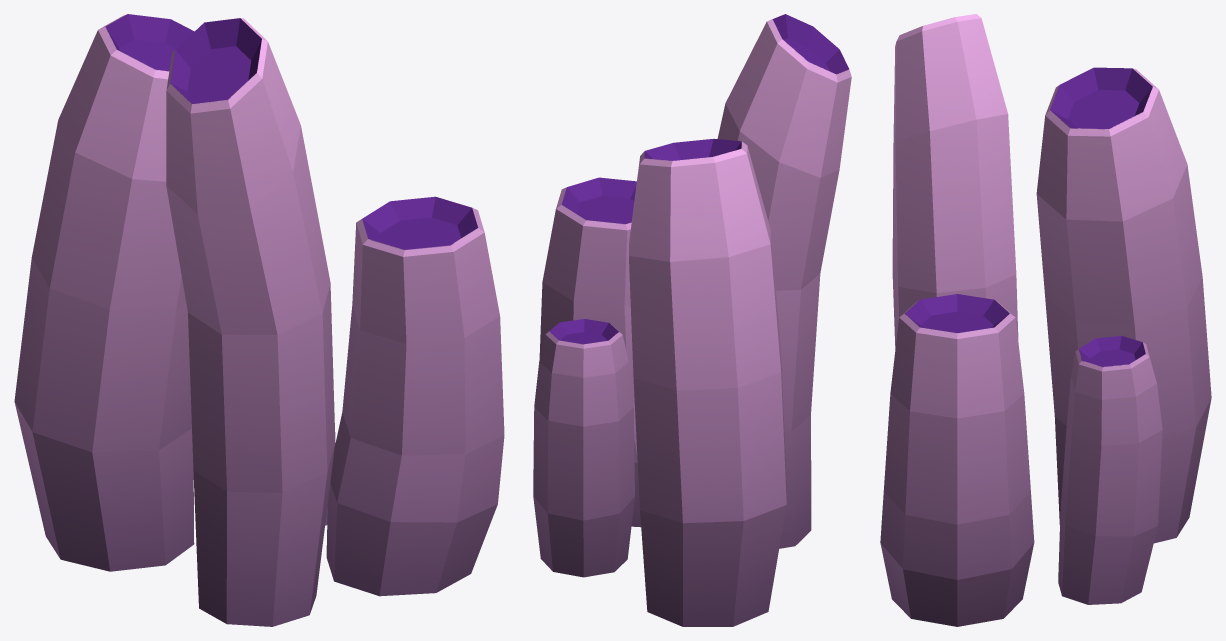
Rendered from Coral_01.fbx.
The picture shows the model from 3 angles, left to right: view 1: azimuth 30°, elevation 25°; view 2: azimuth 150°, elevation 25°; view 3: azimuth 270°, elevation 25°; orthographic projection. The views are drawn at different scales.
Visible parts, largest first — view 1: Coral_01; view 2: Coral_01; view 3: Coral_01.
Boxes of the visible parts, <box> form: Coral_01: <box>14,14,504,626</box>; Coral_01: <box>533,14,851,626</box>; Coral_01: <box>880,14,1211,626</box>.
Size of the model in its own units: 54.33 by 82.67 by 48.3.
Materials: 2 (1 with a texture image).
